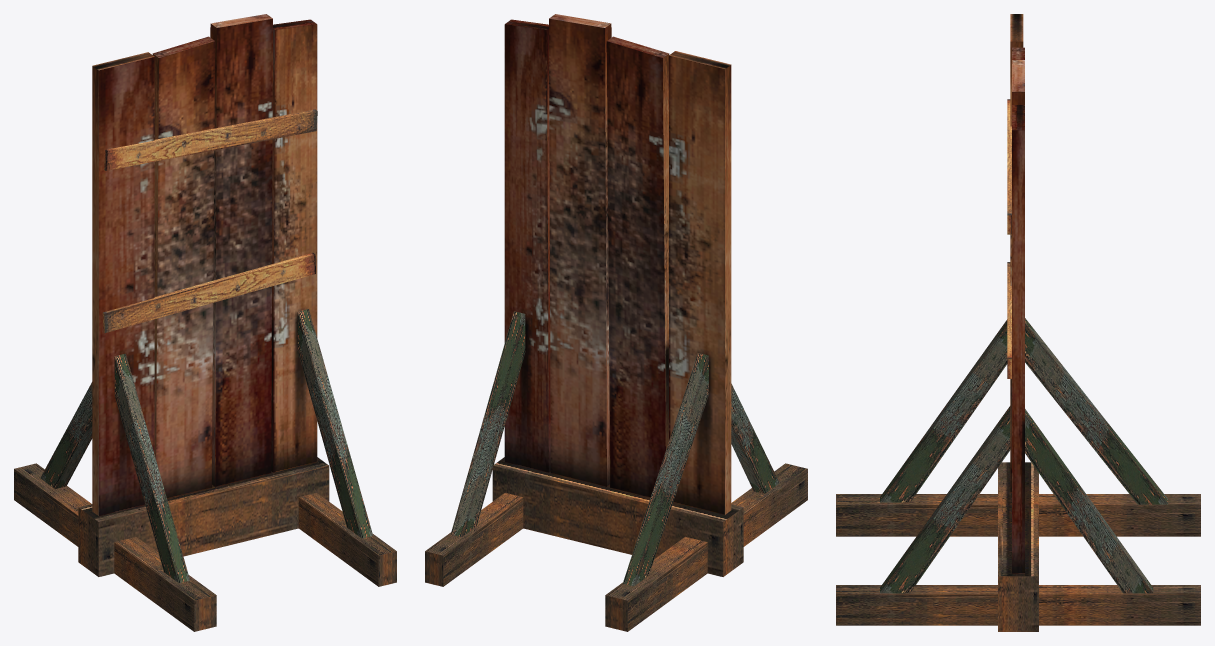
File: targetwall_no_target.fbx
3 renders of one model, left to right at view 1: azimuth 30°, elevation 25°; view 2: azimuth 150°, elevation 25°; view 3: azimuth 270°, elevation 25°, orthographic.
Visible parts, largest first — view 1: mesh_0; view 2: mesh_0; view 3: mesh_0.
Part boxes in pixels (bbox=[...]): mesh_0: bbox=[14, 14, 396, 631]; mesh_0: bbox=[425, 14, 807, 631]; mesh_0: bbox=[836, 14, 1200, 631].
Bounding box in the file's own units: 131 × 280 × 178.
1 material, 1 textured.
